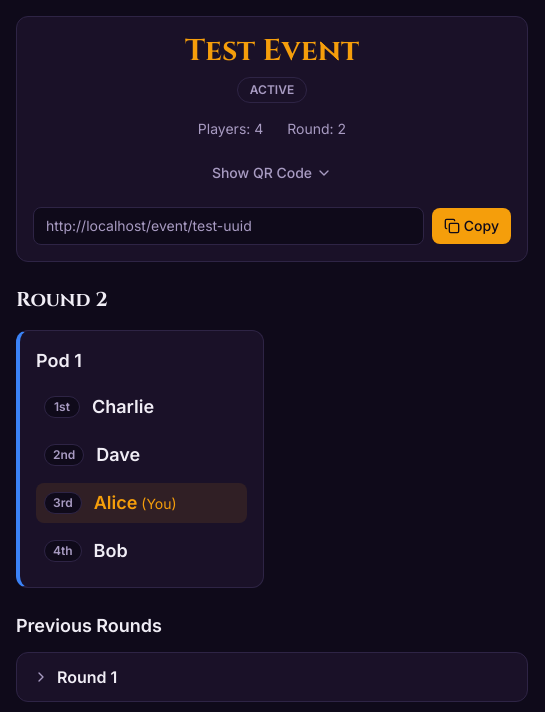
Test: Previous Rounds › expands previous round on toggle click
# Click toggle to expand round 1
Click the button with test id "previous-round-toggle-1": (84, 677) x1=17 y1=653 x2=527 y2=701
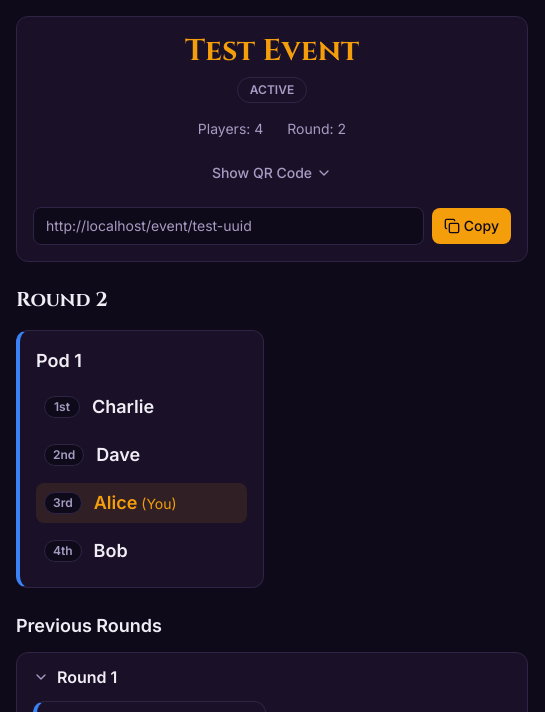
Now the element with test id "pod-card-1" that starts with "Pod" is shown, box x1=33 y1=701 x2=266 y2=711
